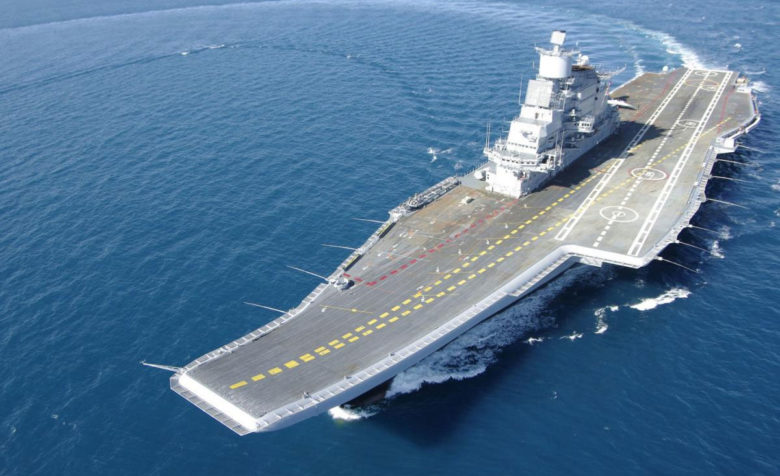Ship: (167, 46, 767, 431)
